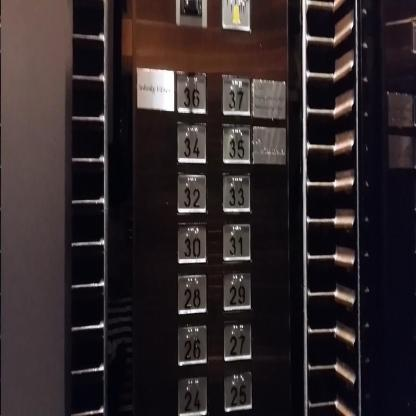24: (178, 372, 207, 416)
25: (222, 367, 253, 411)
26: (177, 321, 207, 365)
27: (221, 320, 252, 364)
28: (176, 272, 207, 316)
29: (222, 268, 252, 312)
30: (177, 219, 207, 264)
31: (221, 219, 252, 264)
32: (176, 170, 207, 214)
33: (221, 171, 252, 215)
34: (176, 120, 206, 164)
35: (220, 122, 251, 166)
36: (177, 71, 207, 115)
37: (220, 72, 251, 116)
alarm: (220, 0, 253, 33)
